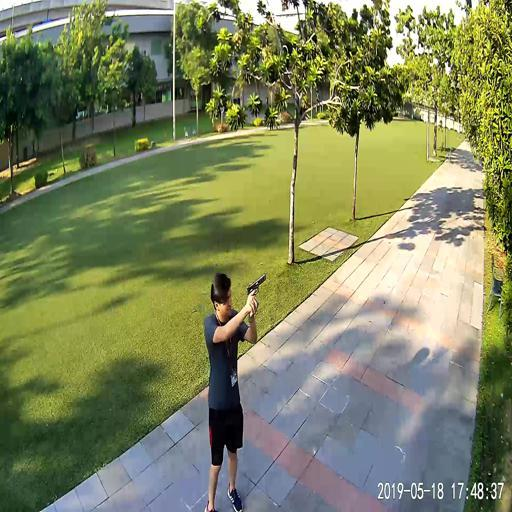Handgun: (245, 271, 265, 294)
